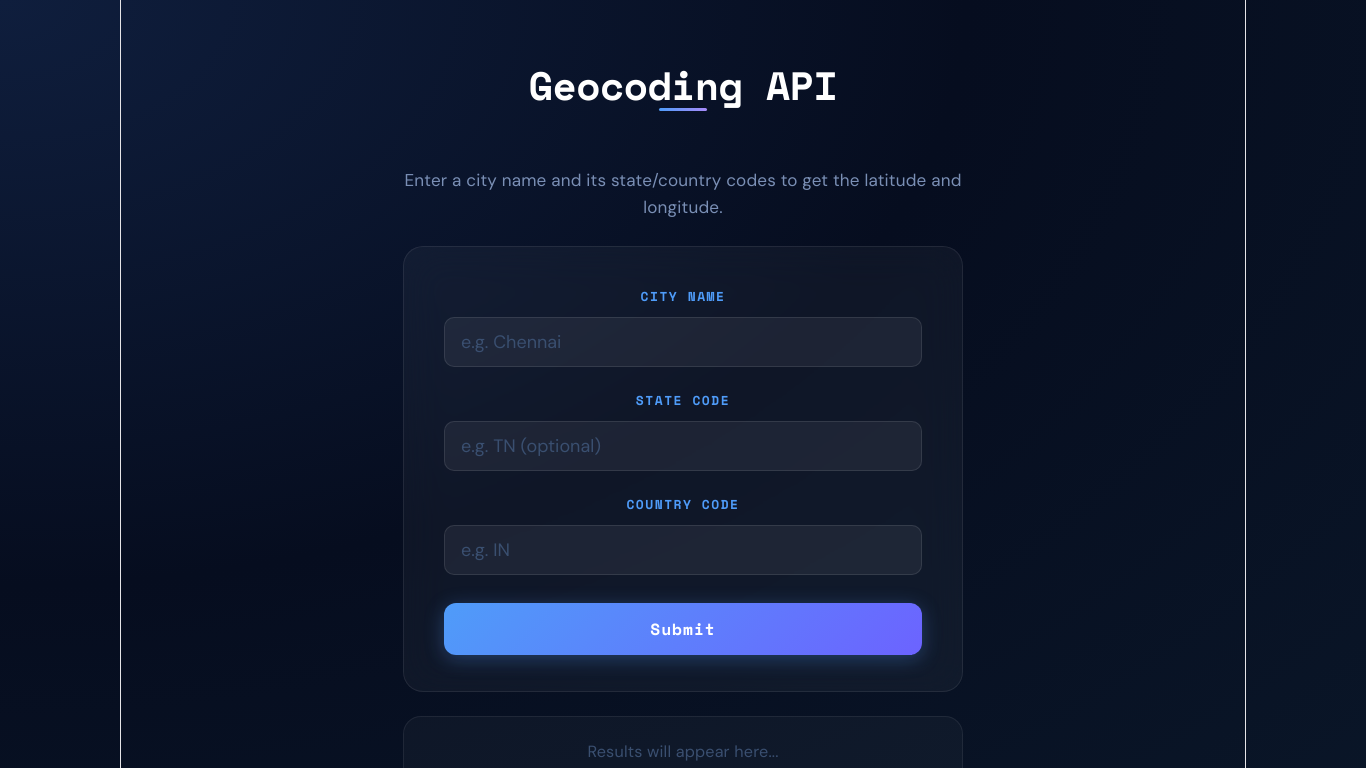
it: GeoCod Component › shows error when location not found
Type and submit
Step 1. Type "asdf" into the field with placeholder "e.g. Chennai" → [683, 342], box [444, 317, 922, 367]
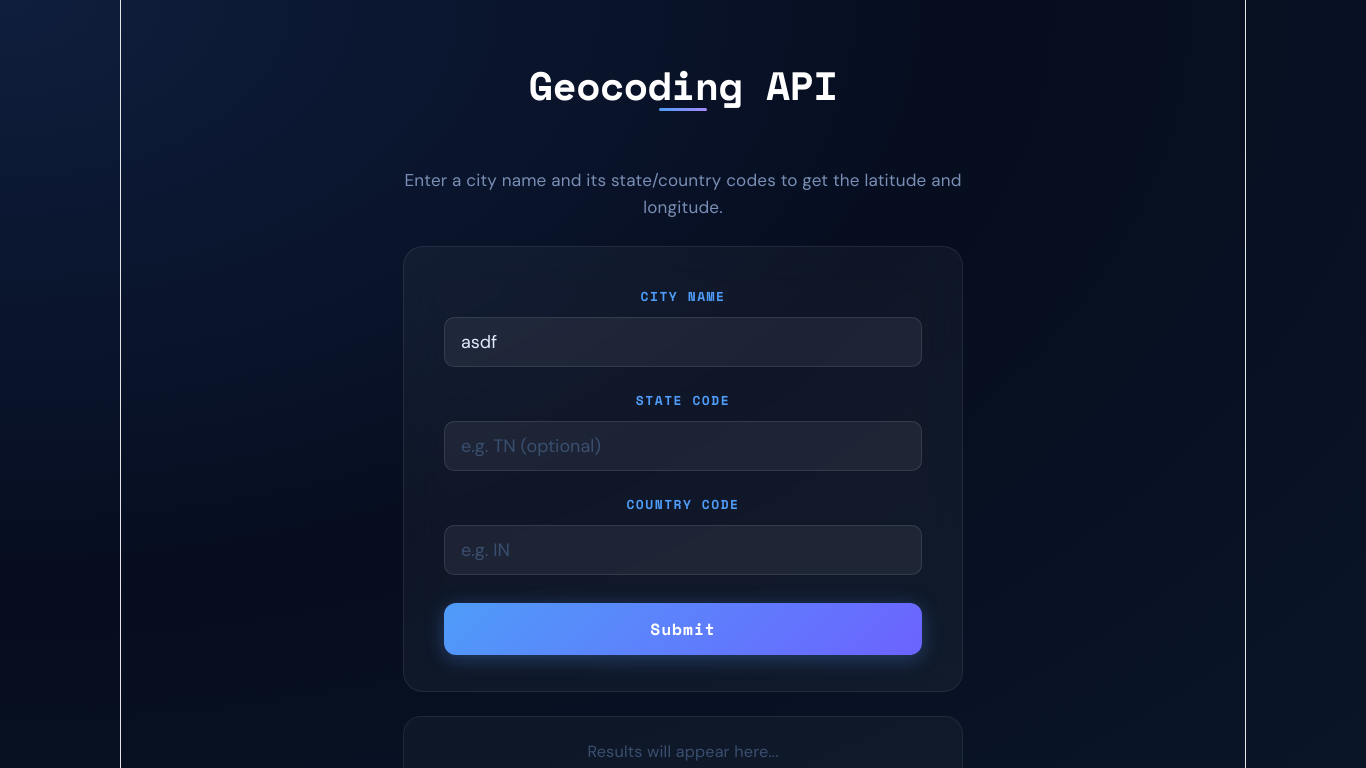
Step 2. Type "asdf" into the field with placeholder "e.g. TN (optional)" → [683, 446], box [444, 421, 922, 471]
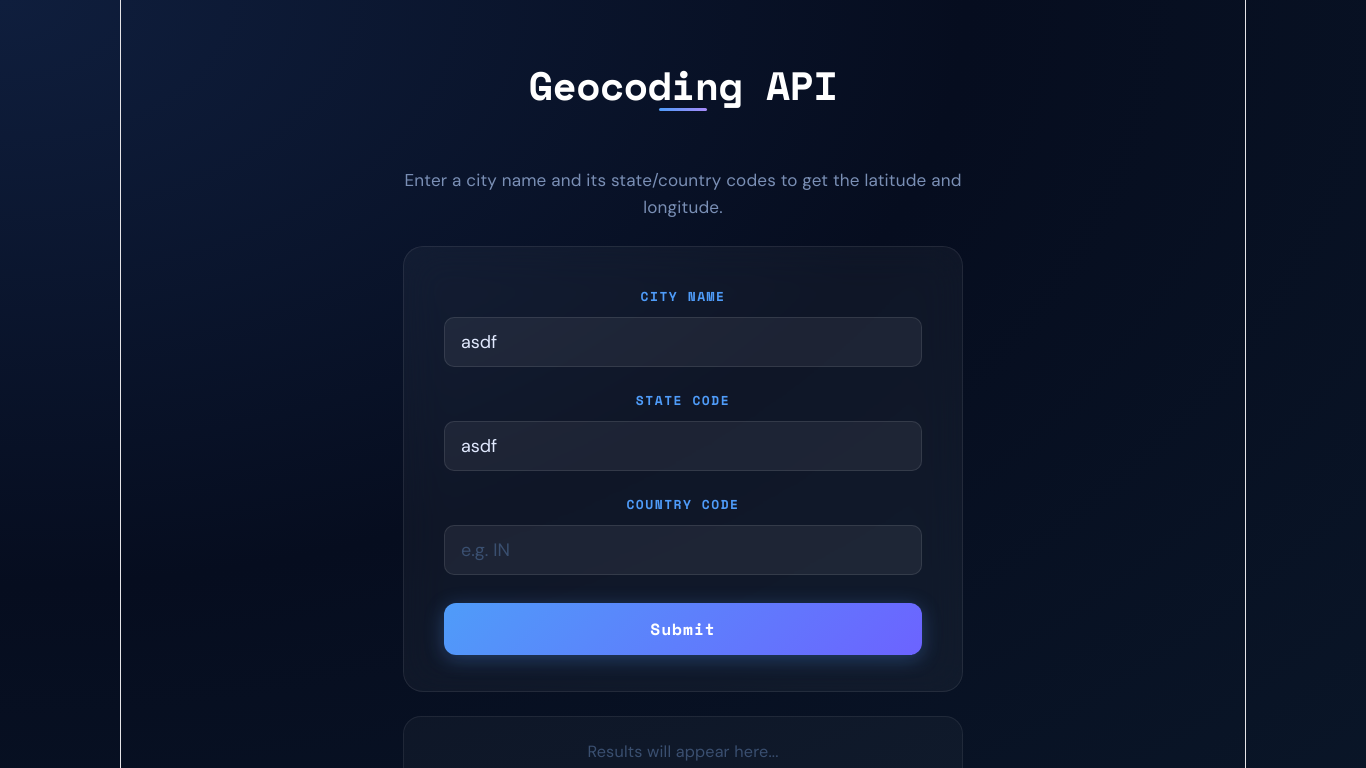
Step 3. Type "asdf" into the field with placeholder "e.g. IN" → [683, 550], box [444, 525, 922, 575]
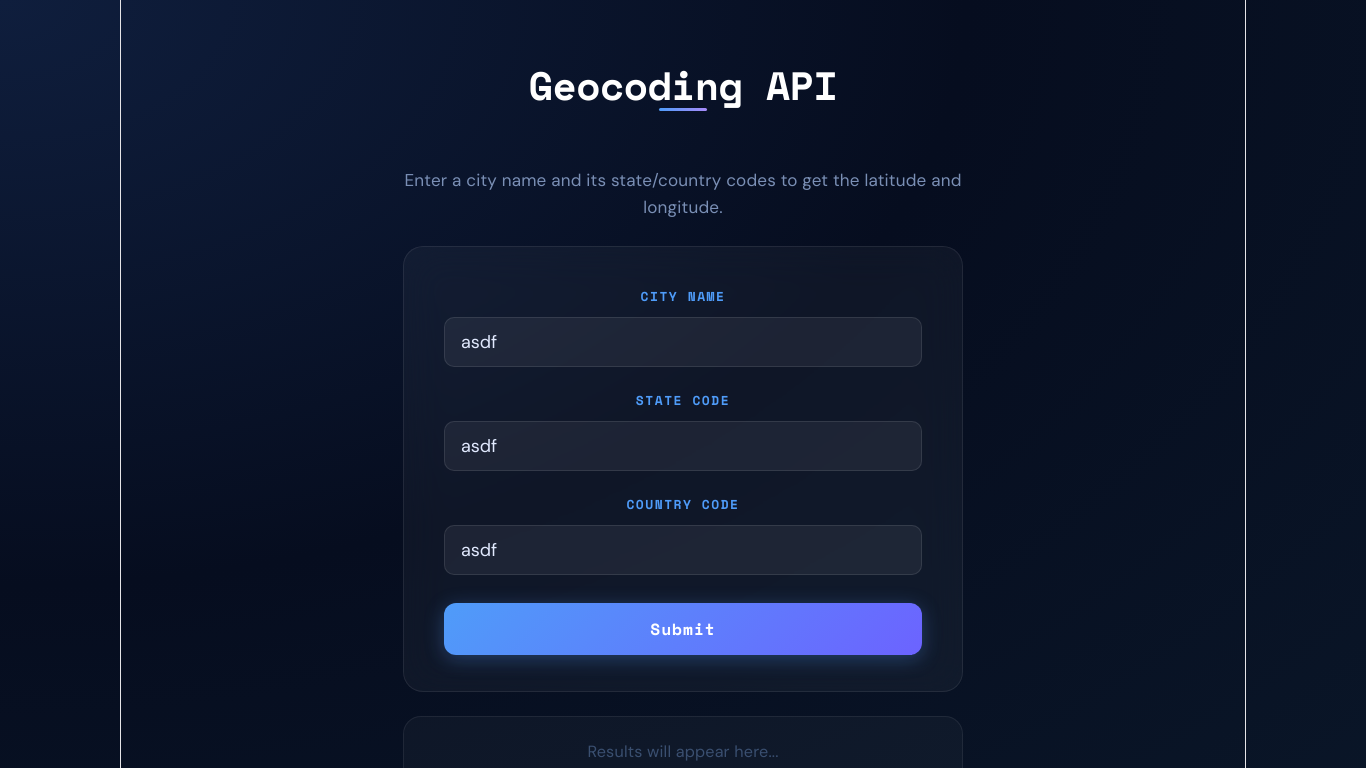
Step 4. Click the button showing "Submit" → [683, 629], box [444, 603, 922, 655]
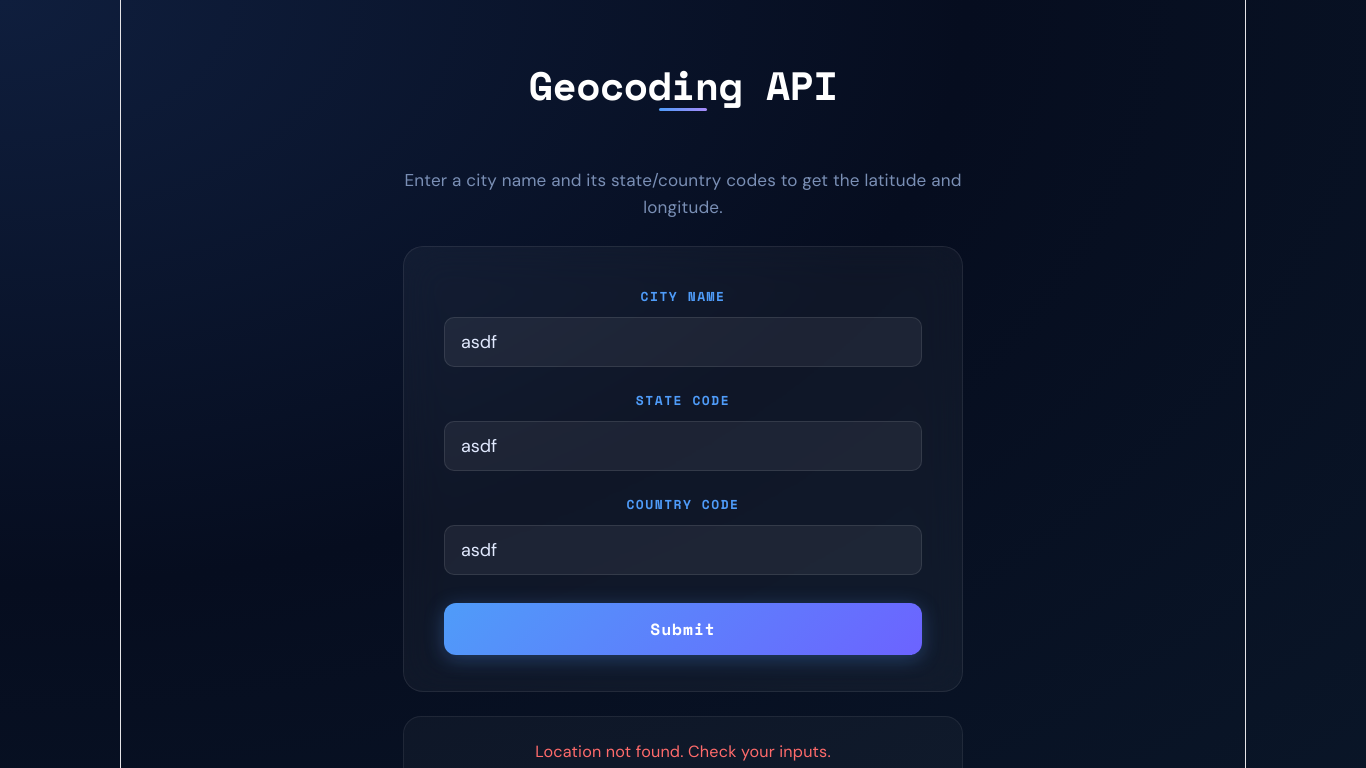
Expected: the text "Location not found. Check your inputs." is shown, [535, 741, 831, 762]
